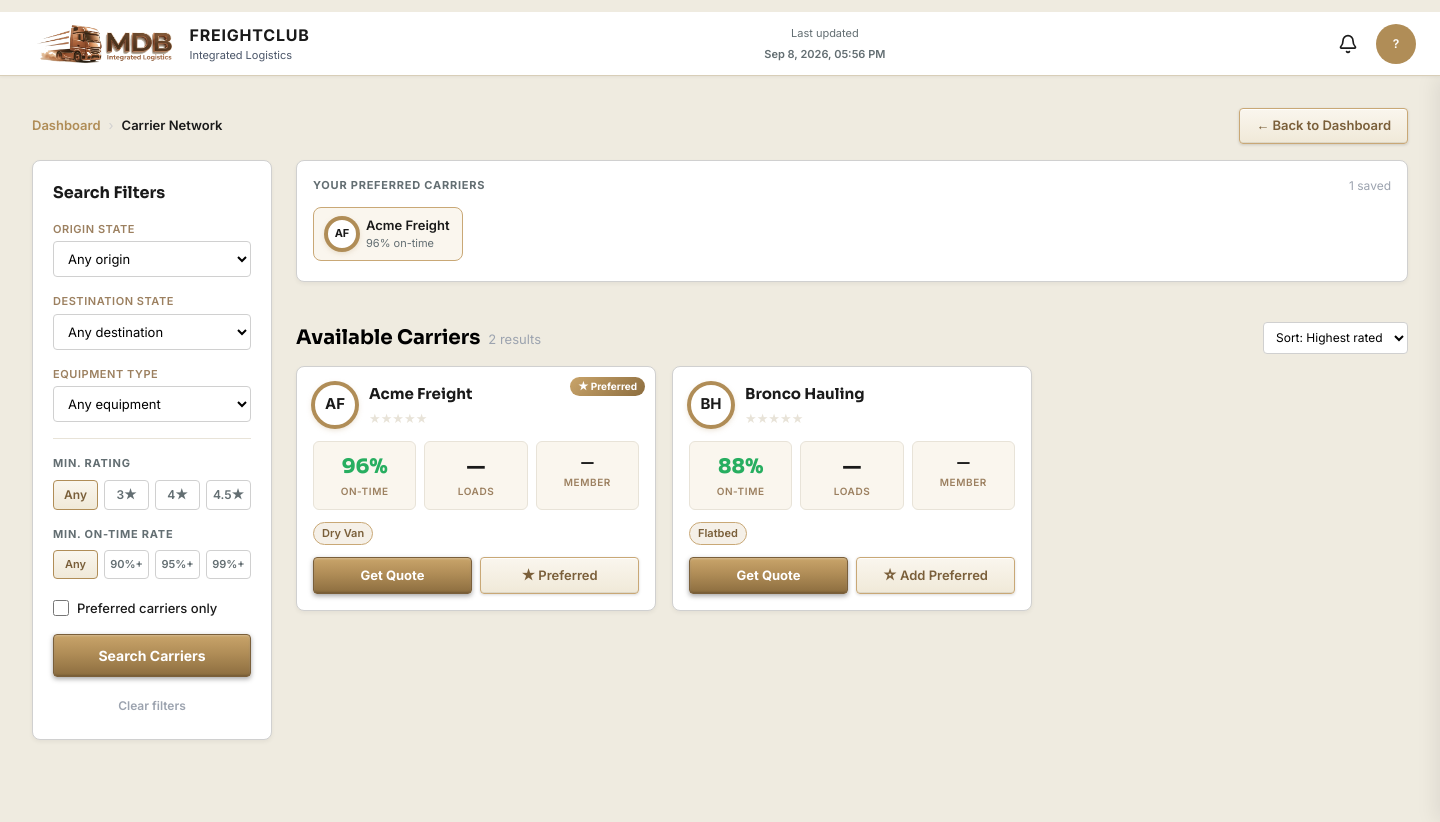
Test: CarrierNetworkPage (US-848) › AC-6: toggle-preferred button flips preferred badge state optimistically
The image size is (1440, 822).
Click the button with test id "toggle-preferred-btn-c2". click: [936, 575]
box: [856,556,1015,594]
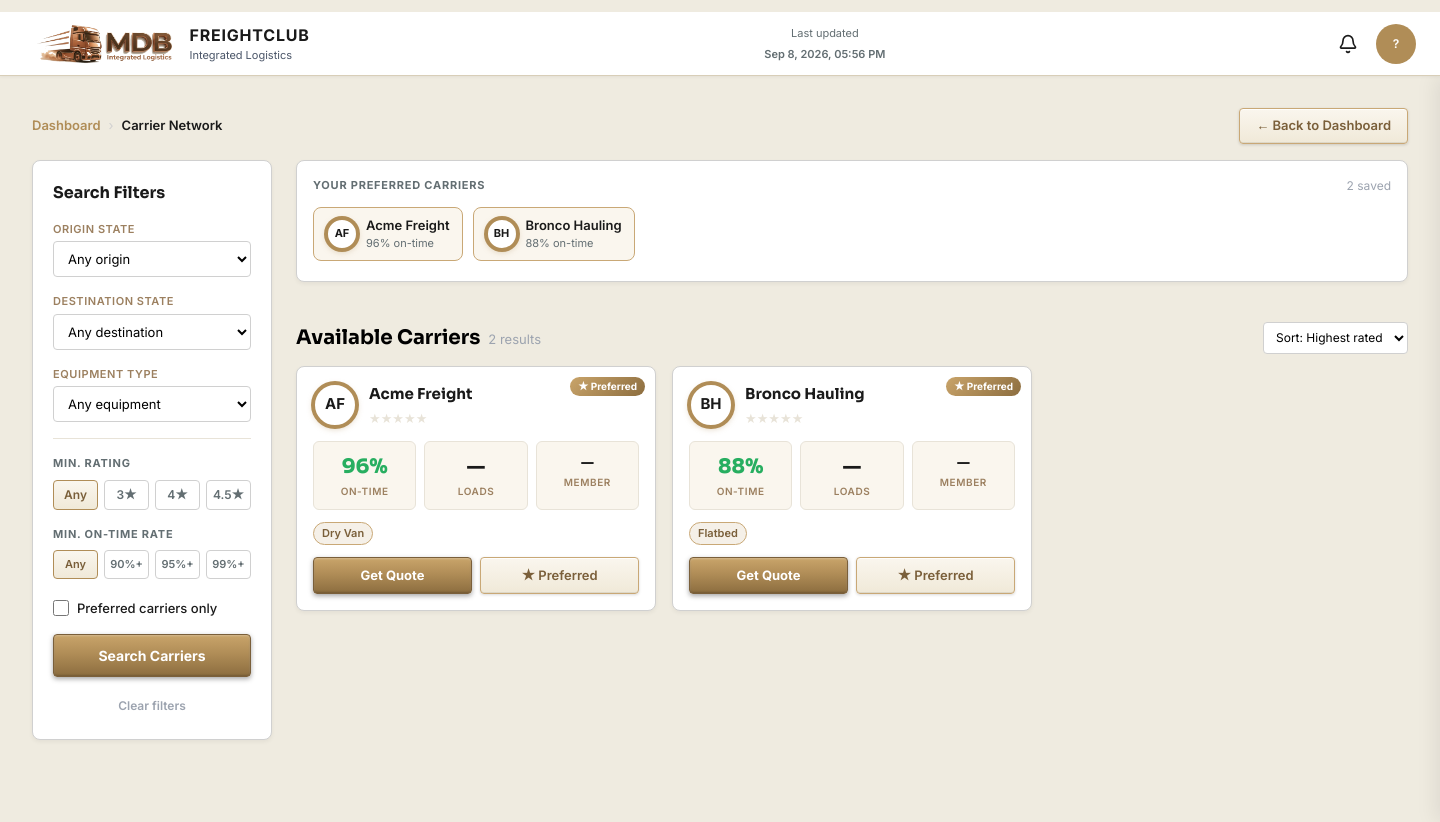
Expected: the button with test id "toggle-preferred-btn-c2" reads "★ Preferred", [856,556,1015,594]
